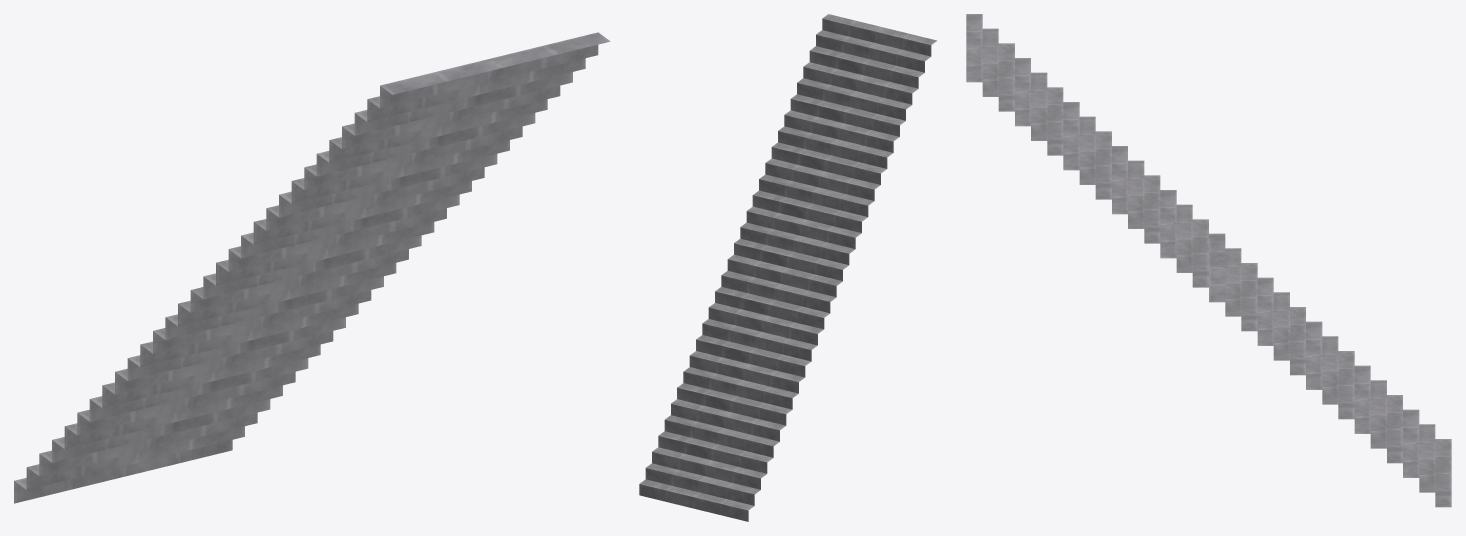
Rendered from Stair_6H_C.fbx.
3 views of the same model, side by side, from view 1: azimuth 30°, elevation 25°; view 2: azimuth 150°, elevation 25°; view 3: azimuth 270°, elevation 25° (orthographic). The views are drawn at different scales.
Visible parts, largest first — view 1: Stair_6H_C; view 2: Stair_6H_C; view 3: Stair_6H_C.
Boxes of the visible parts, x1,y1,x2,y2 form: Stair_6H_C: (14,32,610,503); Stair_6H_C: (639,14,936,521); Stair_6H_C: (966,14,1451,507).
Bounding box in the file's own units: 2 × 6 × 6.
